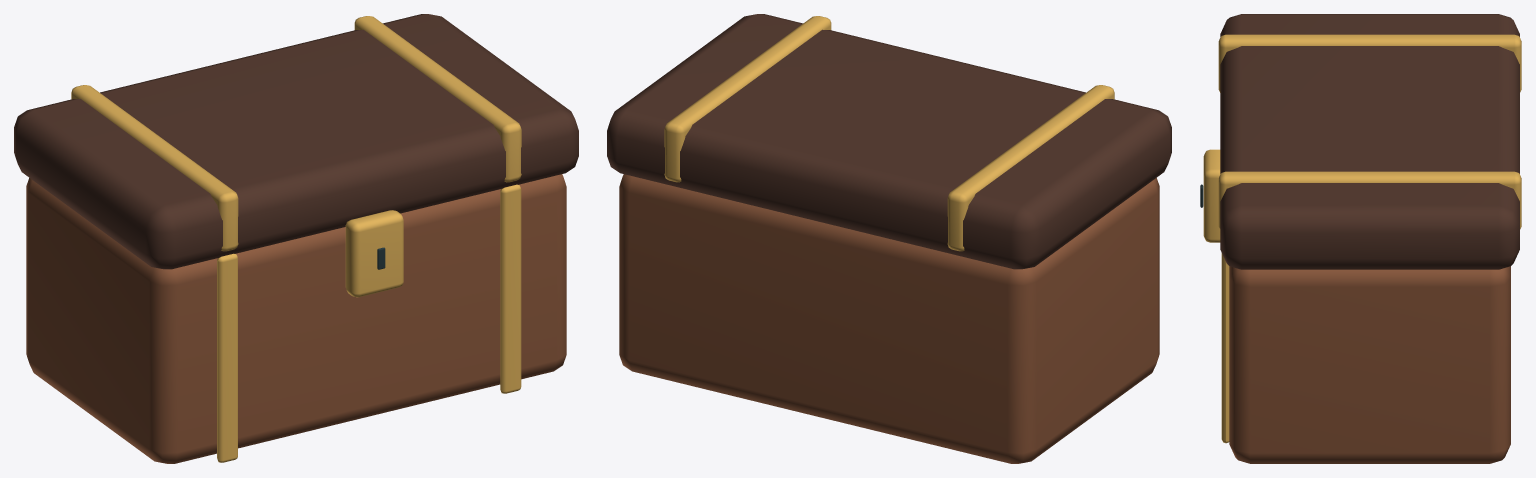
File: archive_chest.glb
3 views of the same model, side by side, from view 1: azimuth 30°, elevation 25°; view 2: azimuth 150°, elevation 25°; view 3: azimuth 270°, elevation 25° (orthographic).
Visible parts, largest first — view 1: chest_body, chest_lid, chest_strap_0.46, chest_lock, chest_strap_-0.46, chest_band_0.46, chest_band_-0.46; view 2: chest_body, chest_lid, chest_band_0.46, chest_band_-0.46; view 3: chest_lid, chest_body, chest_band_-0.46, chest_band_0.46, chest_strap_0.46, chest_lock.
Boxes of the visible parts, <box> form: chest_body: <box>26,174,566,463</box>; chest_lid: <box>14,14,578,269</box>; chest_strap_0.46: <box>500,184,521,393</box>; chest_lock: <box>345,210,403,297</box>; chest_strap_-0.46: <box>217,253,237,462</box>; chest_band_0.46: <box>354,16,521,182</box>; chest_band_-0.46: <box>71,85,238,251</box>; chest_body: <box>619,174,1159,463</box>; chest_lid: <box>607,14,1171,269</box>; chest_band_0.46: <box>664,16,831,182</box>; chest_band_-0.46: <box>947,85,1114,251</box>; chest_lid: <box>1220,14,1519,269</box>; chest_body: <box>1229,266,1510,463</box>; chest_band_-0.46: <box>1218,34,1521,92</box>; chest_band_0.46: <box>1218,171,1521,229</box>; chest_strap_0.46: <box>1221,253,1229,443</box>; chest_lock: <box>1203,149,1220,242</box>.
Size of the model in its own units: 1.4 by 0.835 by 0.912.
